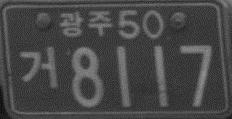0: (142, 8, 165, 40)
1: (151, 41, 174, 109), (114, 44, 133, 109)
5: (117, 8, 139, 40)
7: (178, 43, 213, 110)
8: (69, 46, 105, 107)
거: (18, 46, 59, 92)
광주_O: (57, 8, 113, 39)
